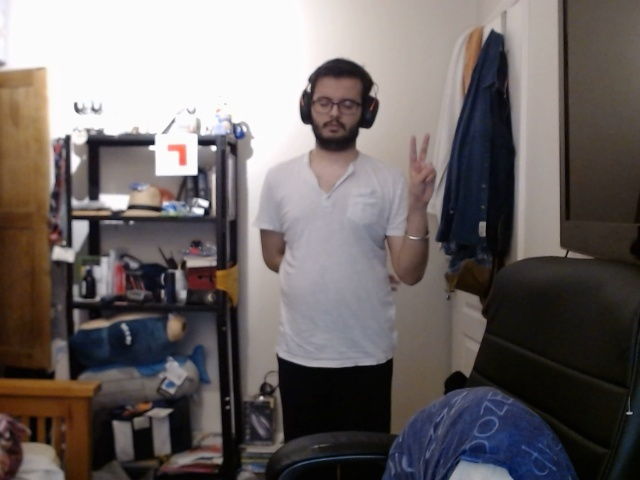Peace: (400, 126, 441, 214)
